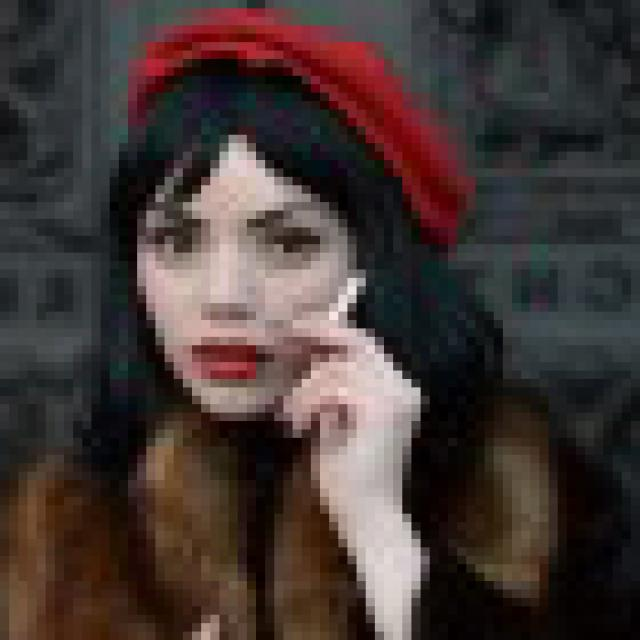smoking: (301, 269, 367, 349)
